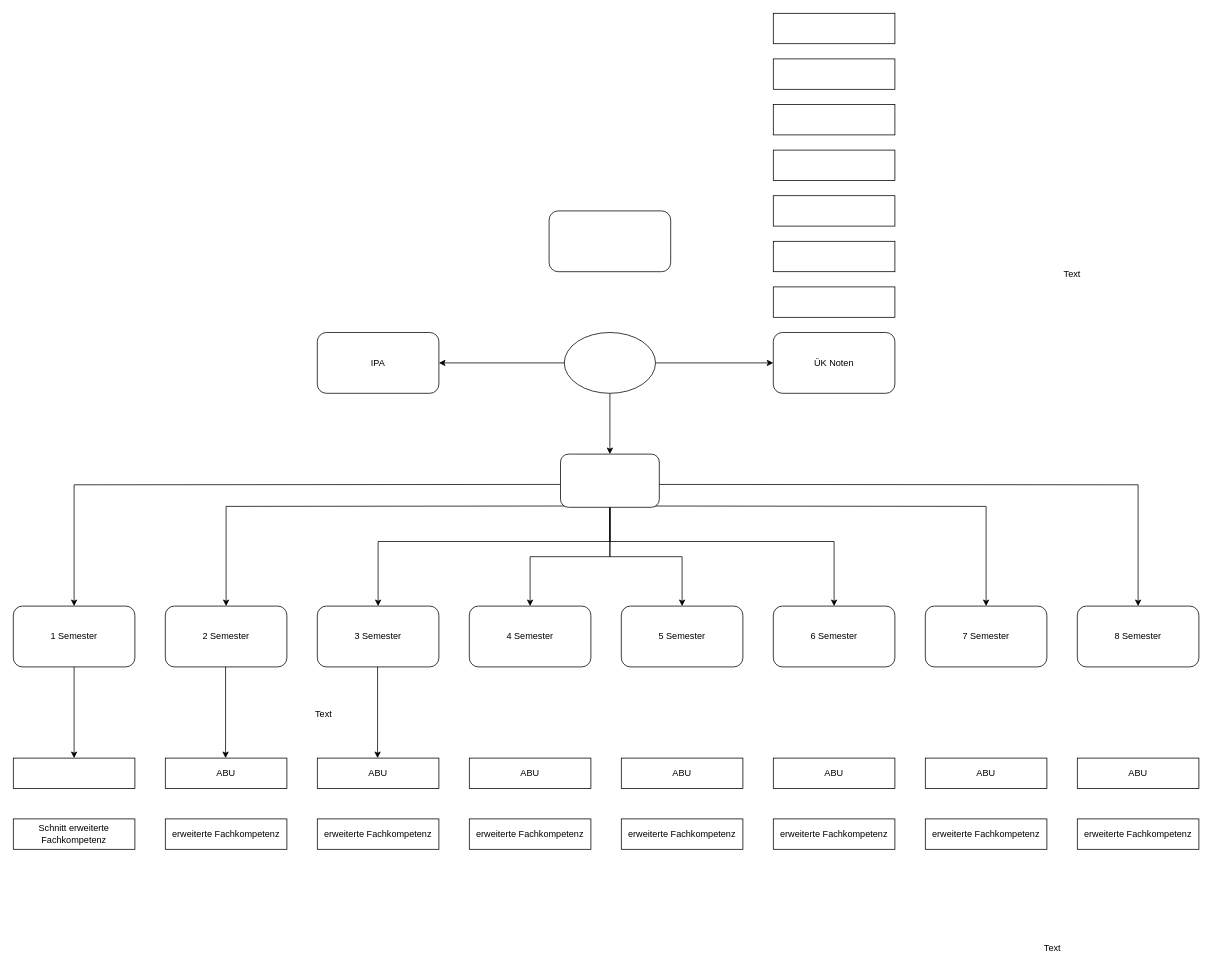
Some shapes in this 1212 by 969 pixel diagram are drawn without their labels. Here are the shapes that lost their labels. From the top down, the centre of each, then its label:
At (x=609, y=241): "ModulNoten".
At (x=610, y=362): "Schüler".
At (x=609, y=480): "Semester".
At (x=74, y=772): "Schnitt ABU".
